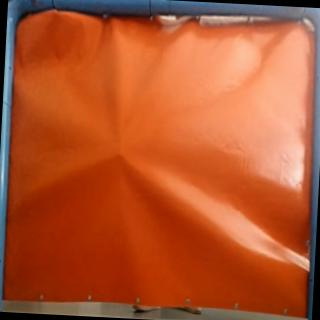Hit-hRxx: (112, 148, 126, 160)
